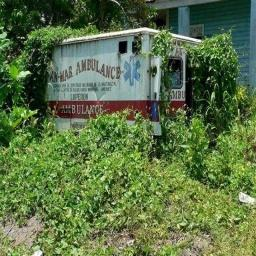ambulance: (48, 28, 161, 134)
